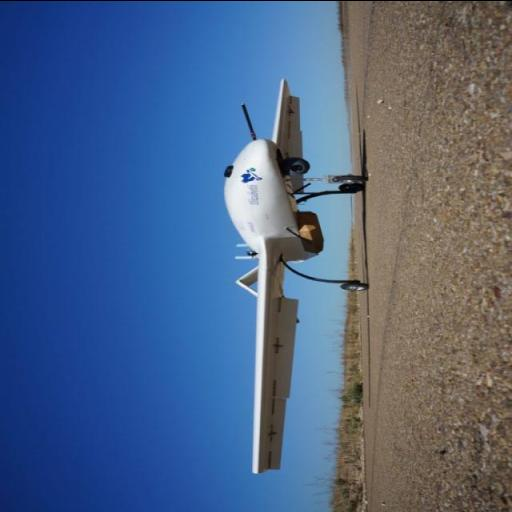uav: (216, 76, 366, 488)
